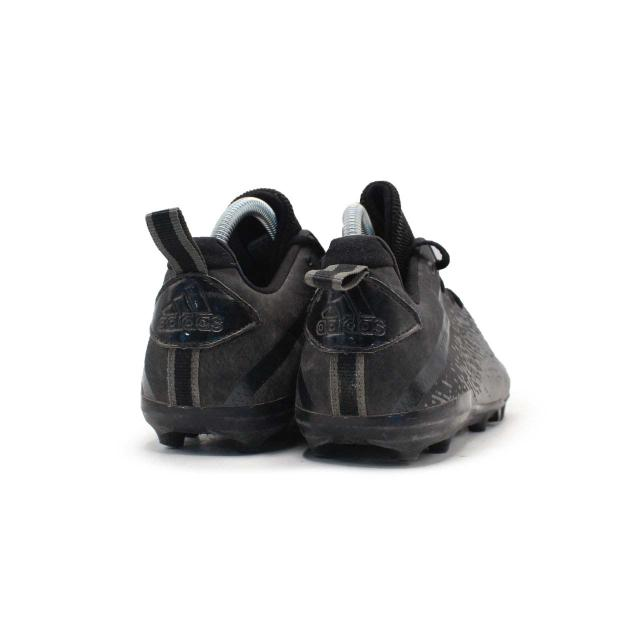heel: (96, 201, 301, 406), (263, 225, 457, 419)
midsole: (292, 394, 510, 465), (141, 407, 300, 449)
